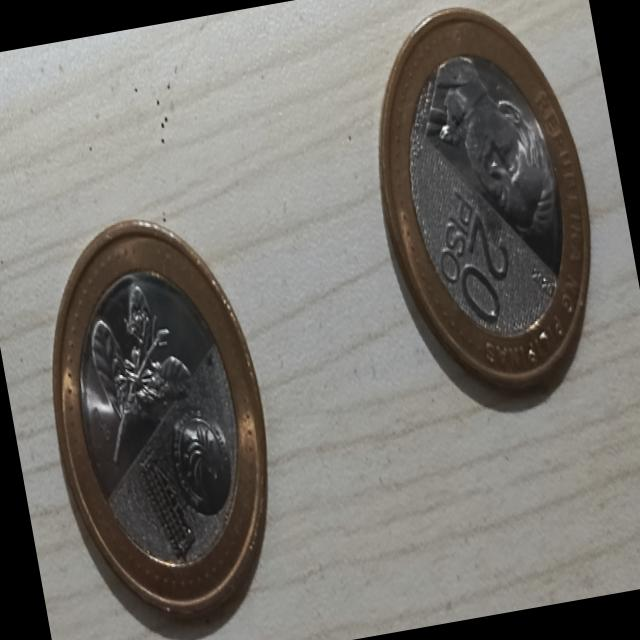20_peso: (54, 220, 265, 614), (380, 9, 589, 387)
